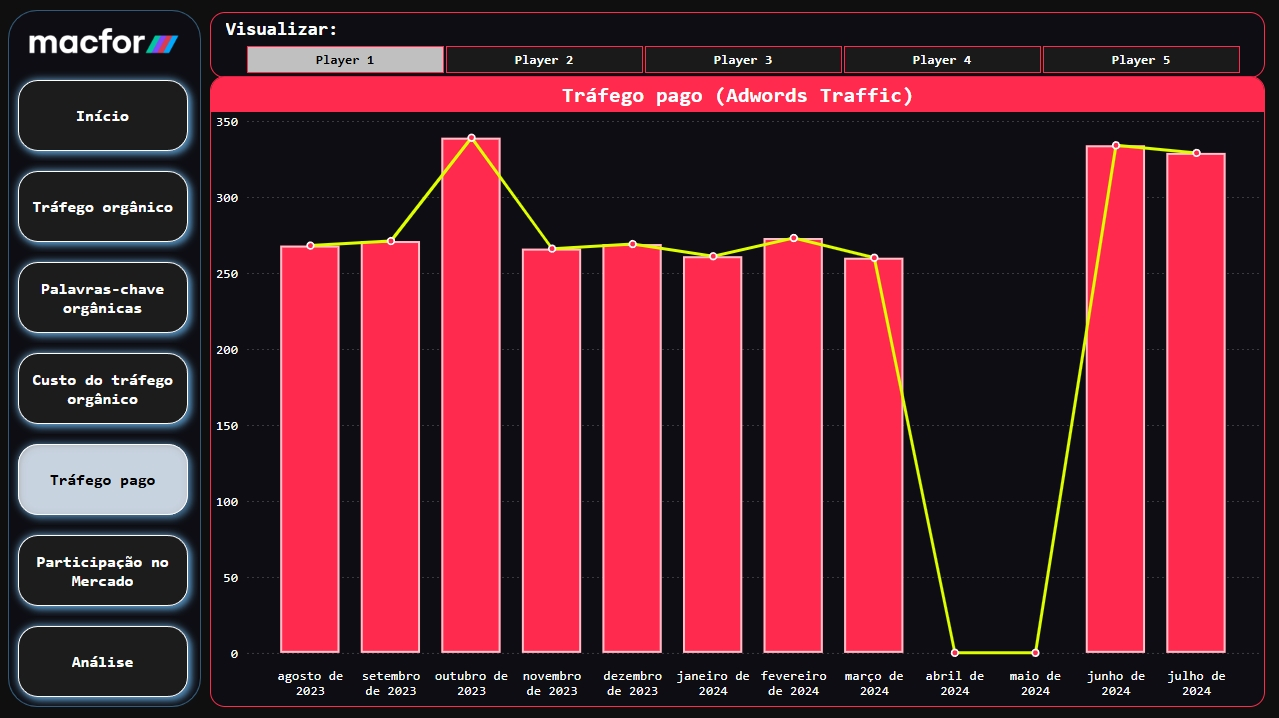

Layout of this report page (visuals, bound fields, positions):
{"tool":"powerbi","page":{"name":"Tráfego pago","canvas":[1280,720],"ordinal":4},"visuals":[{"type":"shape","box":[9,11,193,697],"z":0},{"type":"pageNavigator","box":[9,71,190,637],"z":1000},{"type":"image","box":[12,19,187,53],"z":2000},{"type":"lineClusteredColumnComboChart","title":"Tráfego pago (Adwords Traffic)","fields":{"Category":["Adwords traffic (Adwords traffic).Data"],"Series":["Adwords traffic (Adwords traffic).Player"],"Y":["Sum(Adwords traffic (Adwords traffic).Valor)"],"Y2":["Sum(Adwords traffic (Adwords traffic).Valor)"]},"box":[211,77,1055,631],"z":3000},{"type":"slicer","title":"Visualizar:","fields":{"Values":["Adwords traffic (Adwords traffic).Player"]},"box":[211,13,1055,66],"z":5500}]}

Visuals, with their boxes in screenshot pixels (x1, y1, x2, y2), scaled from the page's 1280x720 canvas onto the 1279x718 screenshot:
shape: [9, 11, 202, 706]
pageNavigator: [9, 71, 199, 706]
image: [12, 19, 199, 72]
"Tráfego pago (Adwords Traffic)" lineClusteredColumnComboChart: [211, 77, 1265, 706]
"Visualizar:" slicer: [211, 13, 1265, 79]
